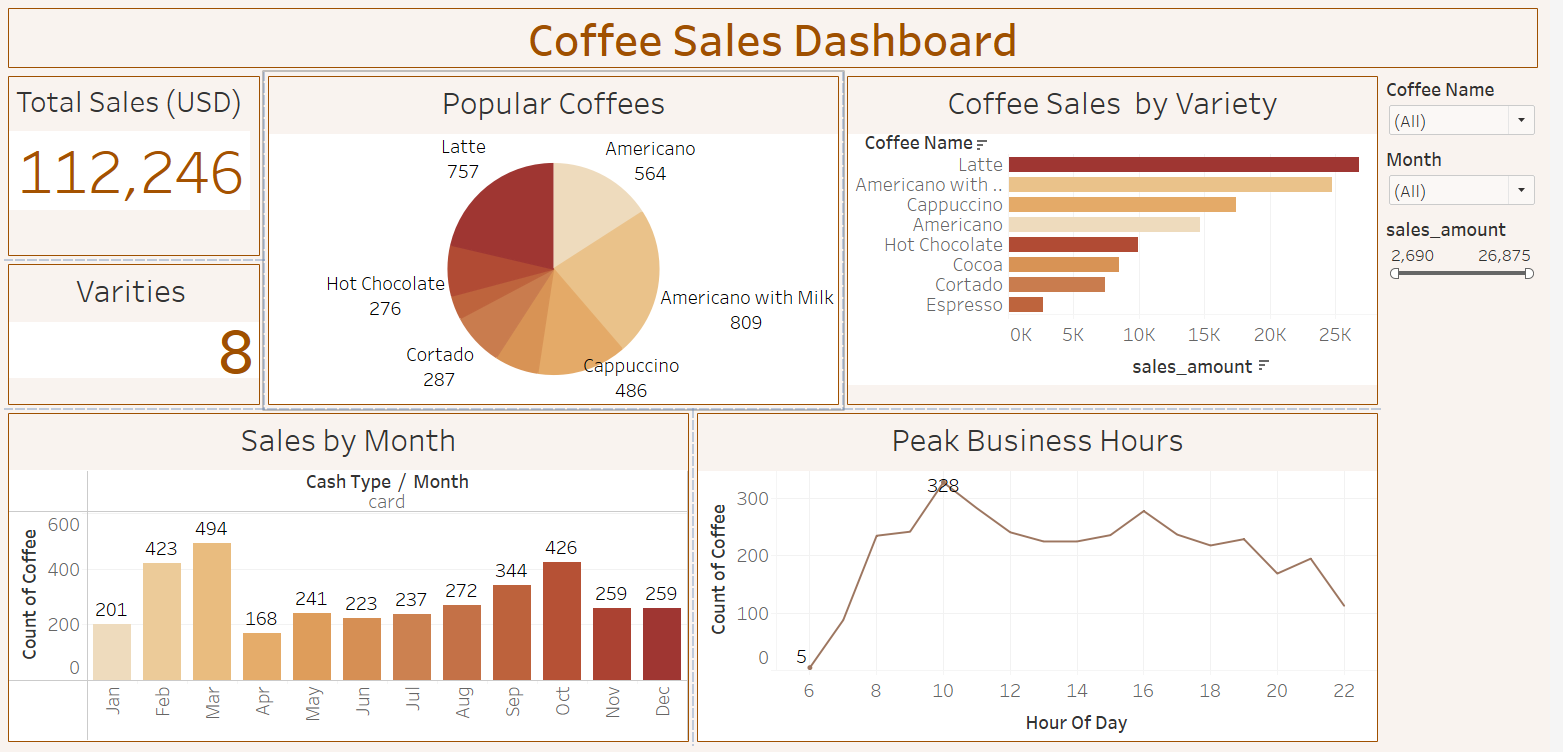

The page's visual inventory and layout, read from the dashboard file:
{"tool":"tableau","page":{"name":"Coffee Sales insights","canvas":[1554,758],"ordinal":0},"visuals":[{"type":"title","box":[8,8,1538,68]},{"type":"worksheet","title":"SalesTotal","mark":"Automatic","box":[8,76,260,188]},{"type":"worksheet","title":"Popular Coffees","mark":"Pie","box":[268,76,579,337]},{"type":"worksheet","title":"coffee_sales_by_type","mark":"Automatic","rows":["coffee_name"],"cols":["money"],"box":[847,76,539,337]},{"type":"filter","title":"Popular Coffees","param":"[federated.0ly9ine17es1cy11m0khj0qye86x].[none:coffee_name:nk]","box":[1386,76,160,70]},{"type":"filter","title":"sales by Month","param":"[federated.0ly9ine17es1cy11m0khj0qye86x].[none:Month_name:nk]","box":[1386,146,160,70]},{"type":"filter","title":"coffee_sales_by_type","param":"[federated.0ly9ine17es1cy11m0khj0qye86x].[sum:money:qk]","box":[1386,216,160,77]},{"type":"worksheet","title":"varieties","mark":"Automatic","box":[8,264,260,149]},{"type":"worksheet","title":"sales by Month","mark":"Automatic","rows":["Coffee Name (copy)_1012747017440428033"],"cols":["cash_type","Month_name"],"box":[8,413,689,337]},{"type":"worksheet","title":"Peak Busines Hours","mark":"Automatic","rows":["Coffee Name (copy)_1012747017440428033"],"cols":["hour_of_day"],"box":[697,413,689,337]}]}

Visuals, with their boxes in screenshot pixels (x1, y1, x2, y2), scaled from the page's 1554x758 canvas onto the 1563x752 screenshot:
title: crop(8, 8, 1555, 75)
"SalesTotal" worksheet: crop(8, 75, 270, 262)
"Popular Coffees" worksheet (Pie marks): crop(270, 75, 852, 410)
"coffee_sales_by_type" worksheet: crop(852, 75, 1394, 410)
"Popular Coffees" filter: crop(1394, 75, 1555, 145)
"sales by Month" filter: crop(1394, 145, 1555, 214)
"coffee_sales_by_type" filter: crop(1394, 214, 1555, 291)
"varieties" worksheet: crop(8, 262, 270, 410)
"sales by Month" worksheet: crop(8, 410, 701, 744)
"Peak Busines Hours" worksheet: crop(701, 410, 1394, 744)
